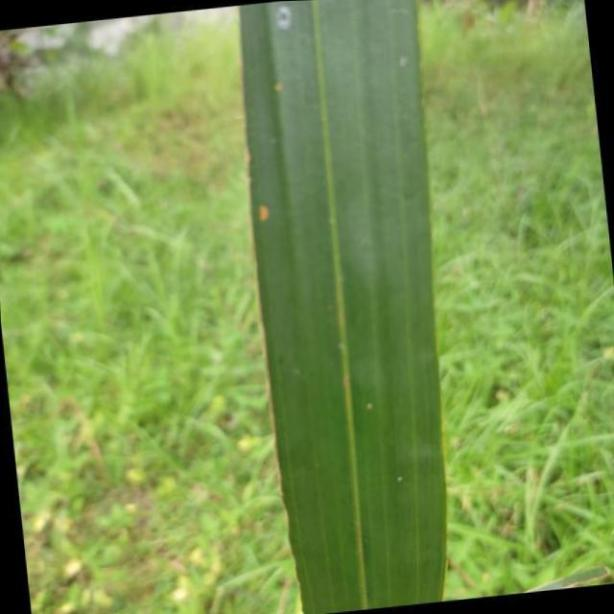Kalium: (237, 0, 448, 614)
